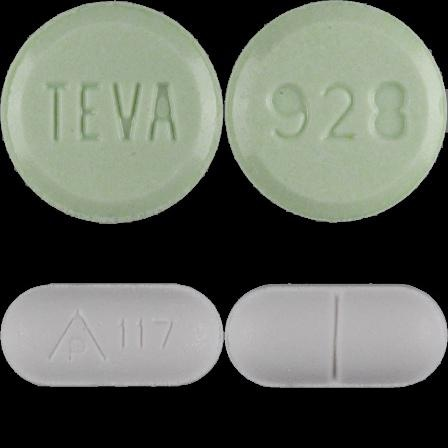63629-1784: (0, 0, 224, 224)
